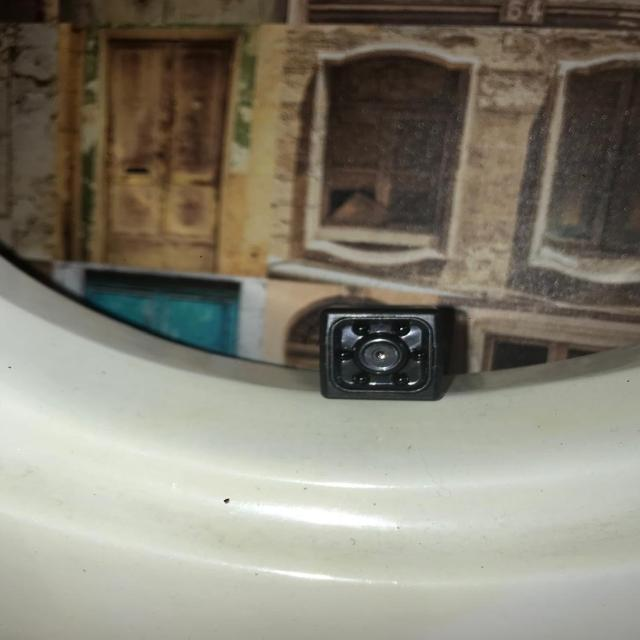hidden camera: (357, 338, 403, 372)
